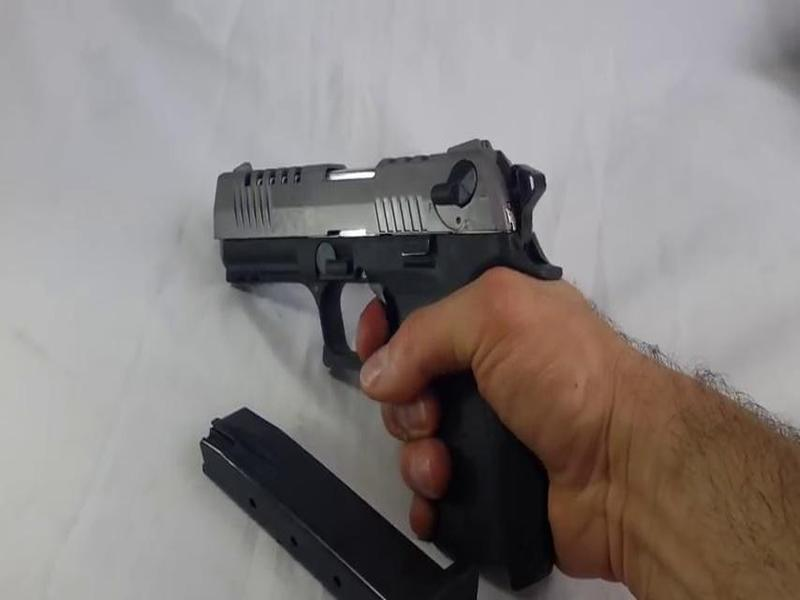Pistola: (200, 115, 591, 591)
